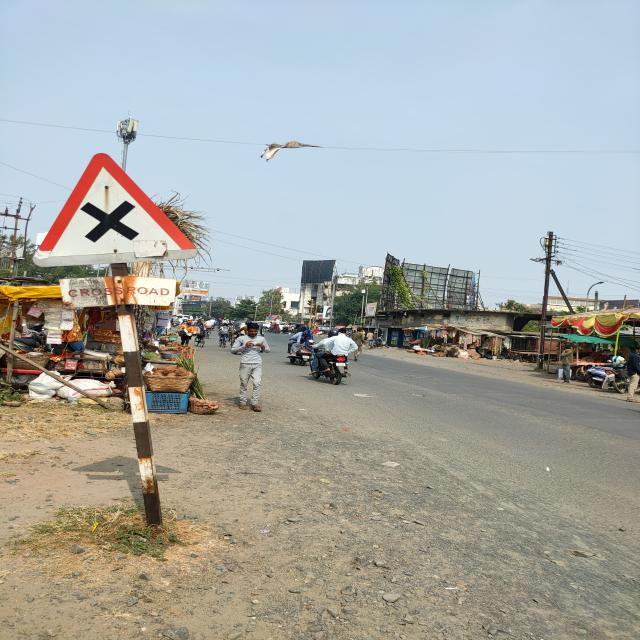CROSS_ROAD: (28, 152, 200, 266)
